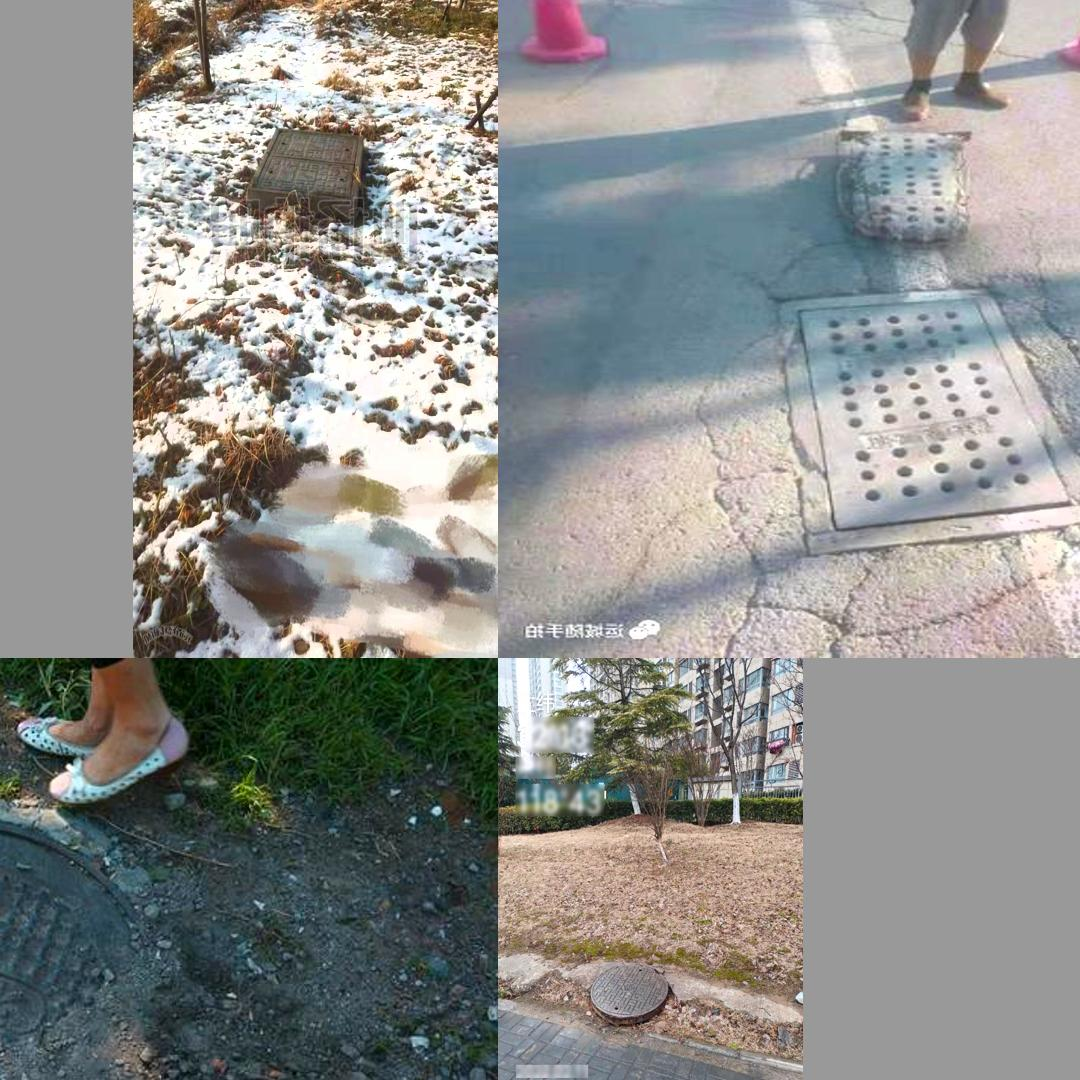circle: (678, 256, 1080, 629), (0, 806, 250, 1080), (238, 127, 368, 231), (588, 961, 672, 1024)
